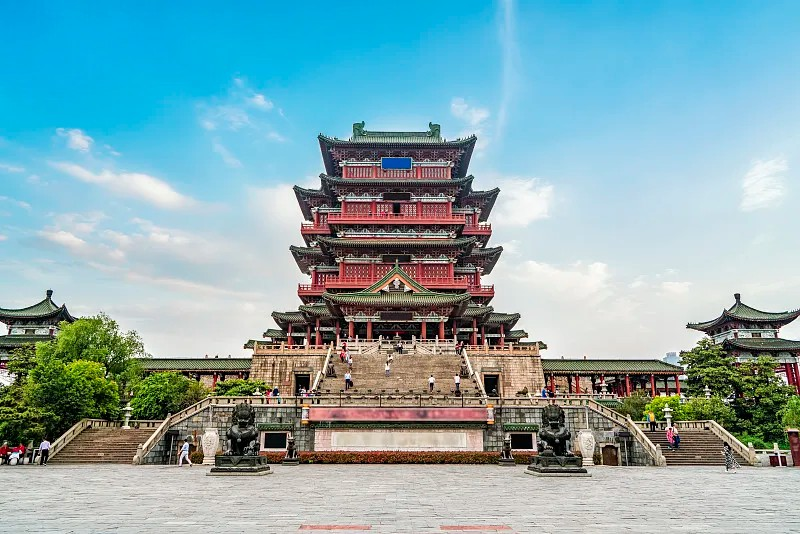Teng: (243, 120, 547, 358)
